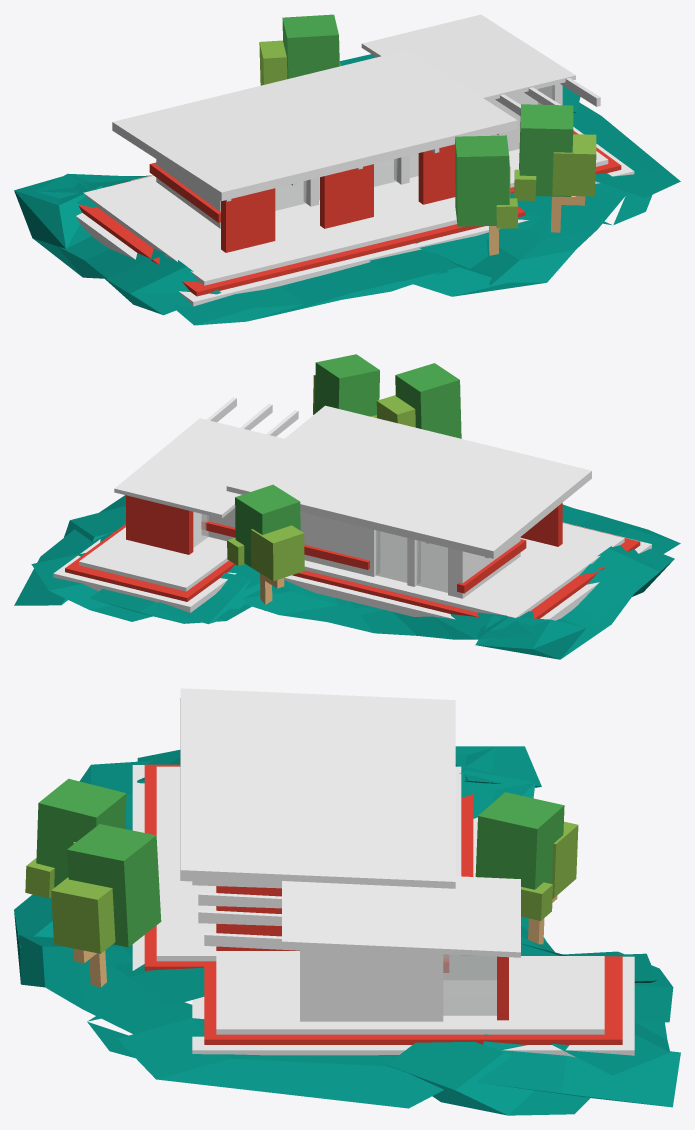
File: concept_home.glb
The picture shows the model from 3 angles, top to bottom: view 1: azimuth 30°, elevation 25°; view 2: azimuth 150°, elevation 25°; view 3: azimuth 270°, elevation 25°; orthographic projection. The views are drawn at different scales.
Visible parts, largest first — view 1: group119383647, group206241629, group1842541181, group2057592469, group1734826660, group1207494087, group1450742739, group497190547, group1079587454, group903537568, group1252653106, group1635190782 (+9 smaller); view 2: group119383647, group206241629, group52379920, group1734826660, group2057592469, group1500376469, group1079587454, group497190547, group1207494087, group2127225915, group273314253, group1825357048 (+13 smaller); view 3: group119383647, group52379920, group1734826660, group903537568, group206241629, group1207494087, group1842541181, group1079587454, group665006264, group866182509, group497190547, group98006365 (+12 smaller).
Boxes of the visible parts, <box> form: group119383647: <box>112,50,517,201</box>; group206241629: <box>76,153,528,306</box>; group1842541181: <box>369,183,652,296</box>; group2057592469: <box>14,176,221,315</box>; group1734826660: <box>361,14,575,100</box>; group1207494087: <box>514,104,596,232</box>; group1450742739: <box>169,250,448,325</box>; group497190547: <box>455,135,518,255</box>; group1079587454: <box>259,14,340,85</box>; group903537568: <box>573,102,680,197</box>; group1252653106: <box>221,188,275,252</box>; group1635190782: <box>320,164,373,228</box>; group119383647: <box>226,405,591,558</box>; group206241629: <box>284,522,651,620</box>; group52379920: <box>53,512,236,612</box>; group1734826660: <box>114,418,284,518</box>; group2057592469: <box>475,545,674,659</box>; group1500376469: <box>243,580,533,639</box>; group1079587454: <box>227,484,304,604</box>; group497190547: <box>376,363,461,438</box>; group1207494087: <box>313,354,379,417</box>; group2127225915: <box>300,512,369,575</box>; group273314253: <box>153,564,260,624</box>; group1825357048: <box>31,553,152,621</box>; group119383647: <box>180,688,455,888</box>; group52379920: <box>192,956,634,1057</box>; group1734826660: <box>282,876,520,957</box>; group903537568: <box>117,1018,443,1108</box>; group206241629: <box>132,764,477,970</box>; group1207494087: <box>51,824,161,987</box>; group1842541181: <box>14,894,192,1058</box>; group1079587454: <box>475,792,578,944</box>; group665006264: <box>387,1041,590,1115</box>; group866182509: <box>477,1034,680,1107</box>; group497190547: <box>25,778,126,898</box>; group98006365: <box>300,947,371,1021</box>.
Bounding box in the file's own units: 1.35 × 0.3356 × 1.12.
